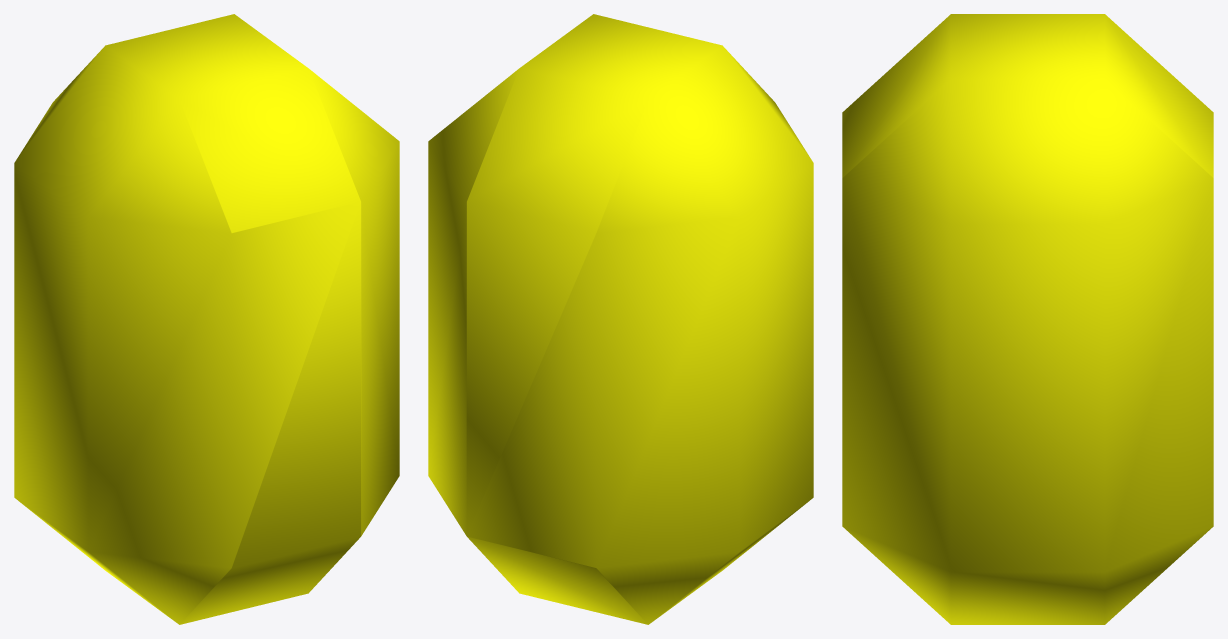
The model's file is base_link.bbox.gltf.
3 views of the same model, side by side, from view 1: azimuth 30°, elevation 25°; view 2: azimuth 150°, elevation 25°; view 3: azimuth 270°, elevation 25° (orthographic). The views are drawn at different scales.
Parts seen in each view (by area): view 1: base_link.bbox; view 2: base_link.bbox; view 3: base_link.bbox.
Part boxes in pixels (x1,y1,x2,y2): base_link.bbox: (14,14,399,624); base_link.bbox: (428,14,813,624); base_link.bbox: (842,14,1213,624).
Bounding box in the file's own units: 0.0794 × 0.128 × 0.079.
